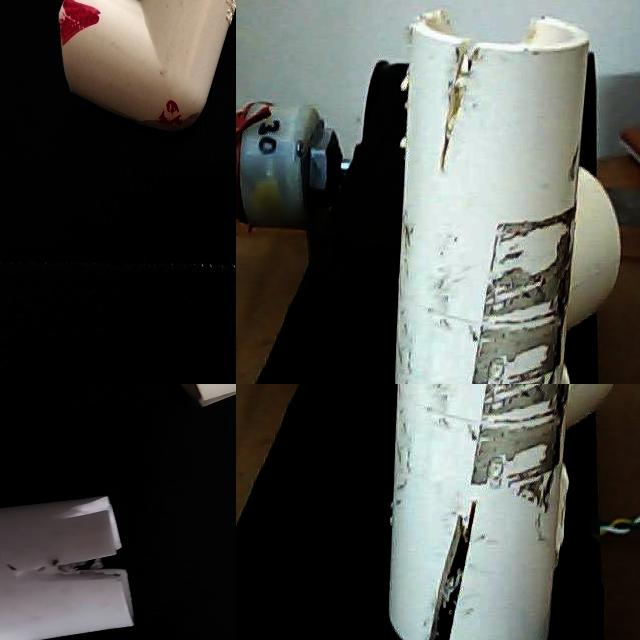Defective: (482, 208, 575, 384), (481, 384, 574, 515), (421, 0, 568, 71), (427, 471, 481, 640), (440, 37, 484, 189), (0, 548, 127, 586), (48, 268, 102, 326), (215, 16, 236, 70), (71, 502, 120, 522)
L Joint: (52, 241, 206, 384), (0, 497, 136, 640)
T Joint: (393, 12, 621, 384), (386, 384, 614, 640)
